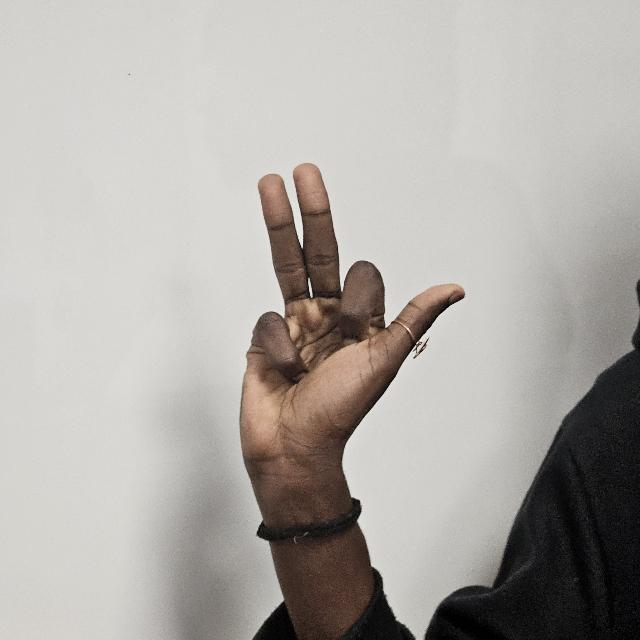R: (232, 163, 466, 511)
